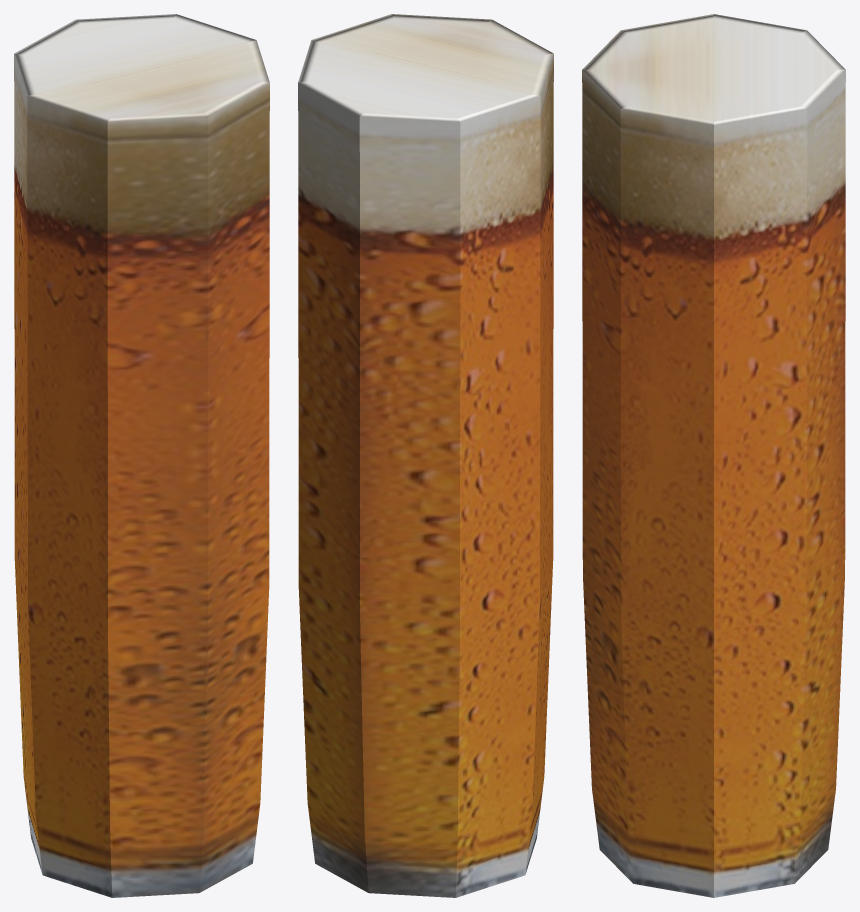
File: beer11m.fbx
3 views of the same model, side by side, from view 1: azimuth 30°, elevation 25°; view 2: azimuth 150°, elevation 25°; view 3: azimuth 270°, elevation 25° (orthographic).
Parts seen in each view (by area): view 1: pCylinder9; view 2: pCylinder9; view 3: pCylinder9.
Boxes of the visible parts, x1,y1,x2,y2 form: pCylinder9: [14, 14, 269, 897]; pCylinder9: [298, 14, 553, 897]; pCylinder9: [582, 14, 845, 897].
Bounding box in the file's own units: 2 × 6.52 × 2.
Materials: 1 (1 with a texture image).
